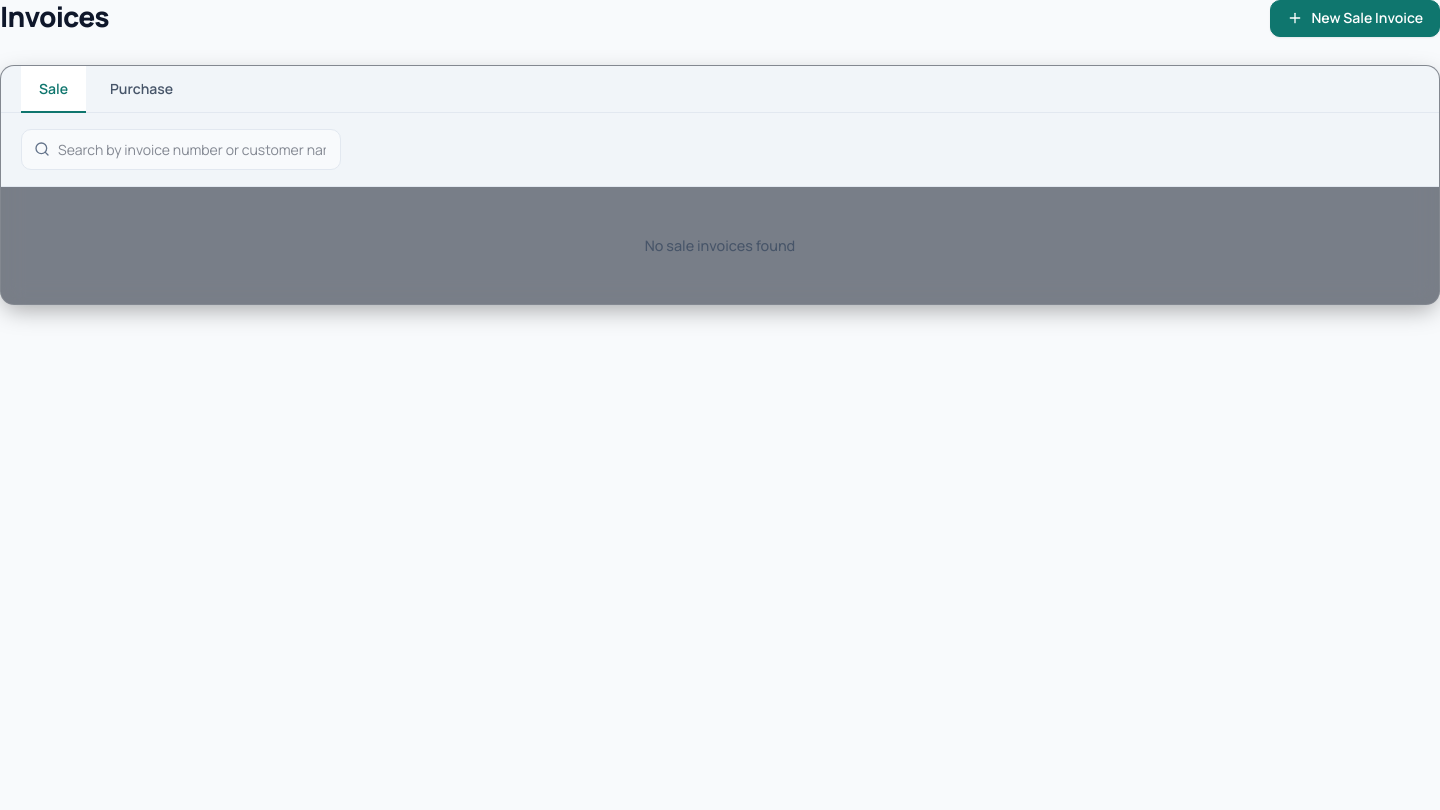
Test: medicine picker › filters and picks the top match on Enter
Click the button "New Sale Invoice".
click(1355, 18)  # box [1270,0,1439,37]
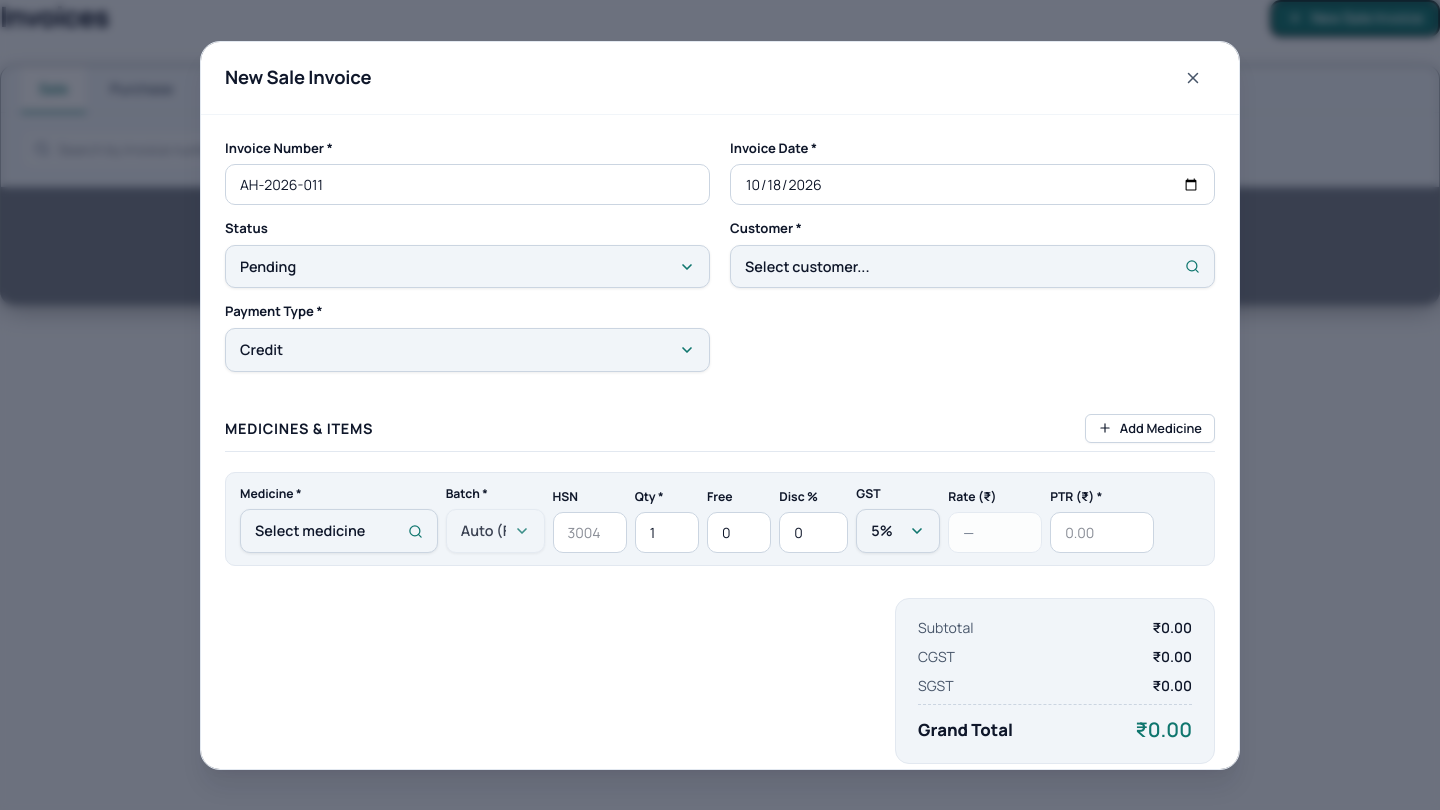
Expected: the heading "New Sale Invoice" is shown, [225,64,371,91]
Click the button with class "searchable-select-trigger" showing "Select medicine".
click(339, 531)  # box [240,509,438,553]
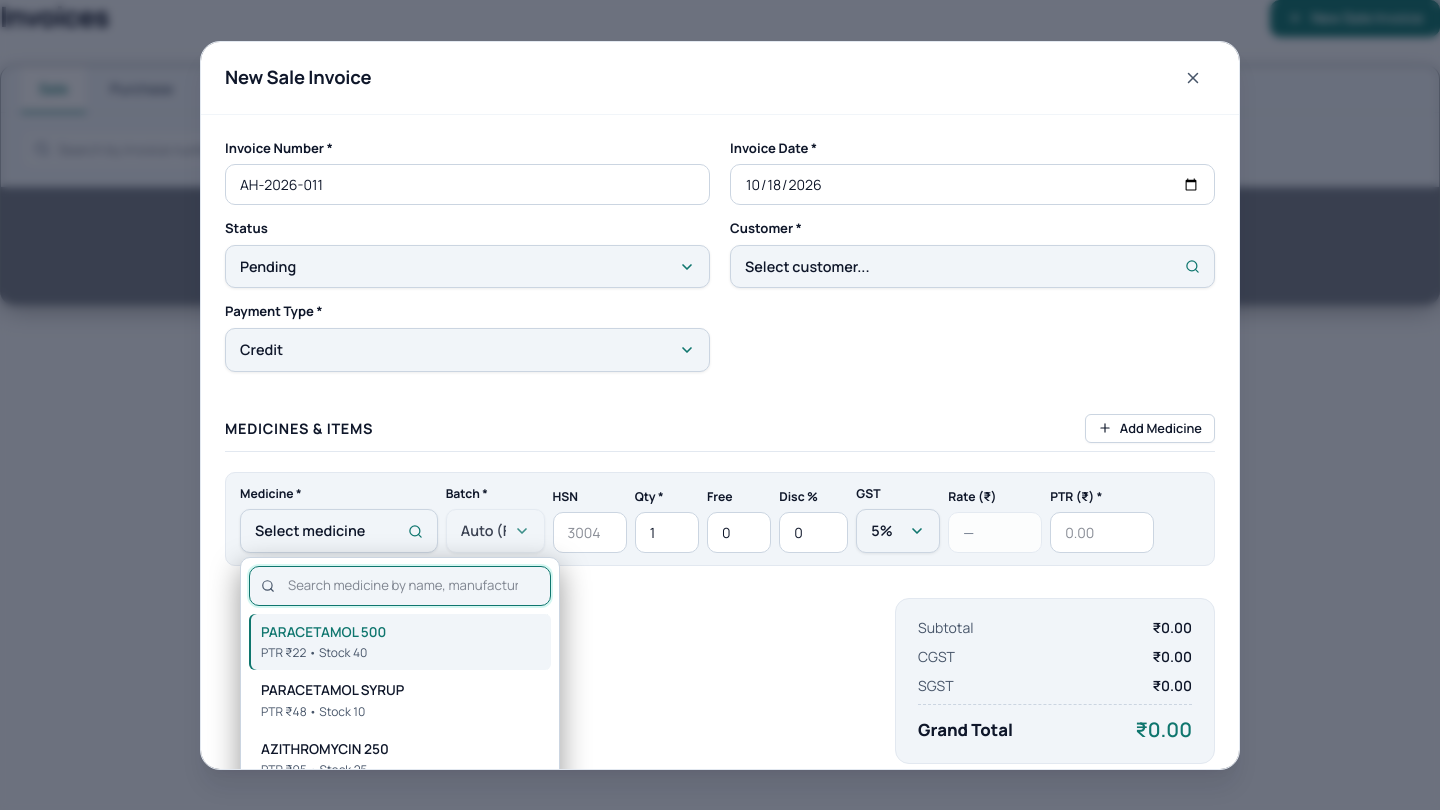
Type "azithro" into the field with placeholder "Search medicine by name, manufacturer, HSN...".
click(400, 586); type("azithro")  # box [249,566,551,606]
Then press Enter
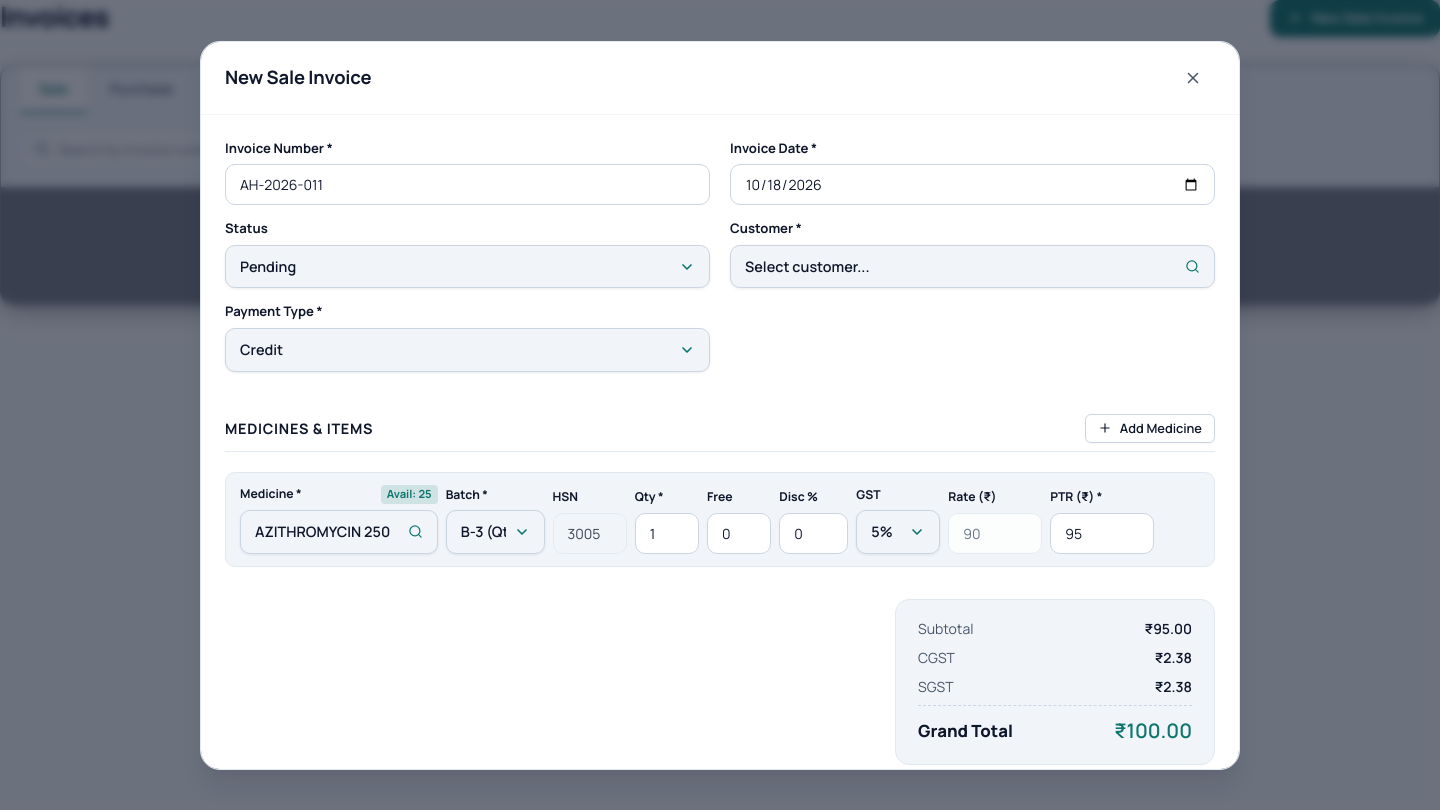
Expected: the button with class "searchable-select-trigger" reads "AZITHROMYCIN 250", [240,510,438,554]
